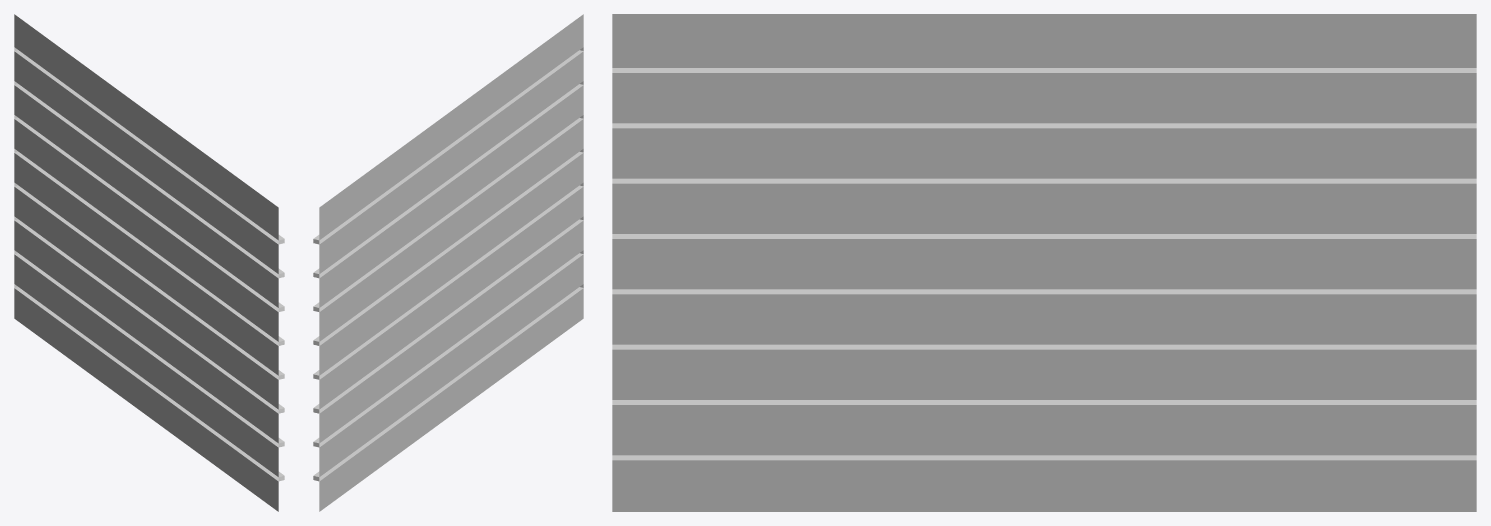
File: lats.fbx
3 renders of one model, left to right at view 1: azimuth 30°, elevation 25°; view 2: azimuth 150°, elevation 25°; view 3: azimuth 270°, elevation 25°, orthographic. The views are drawn at different scales.
Visible parts, largest first — view 1: house.002; view 2: house.002; view 3: house.002.
Part boxes in pixels (x1,y1,x2,y2): house.002: [14, 14, 284, 511]; house.002: [313, 14, 583, 511]; house.002: [612, 14, 1476, 511].
Size of the model in its own units: 0.9262 by 42.97 by 67.61.
